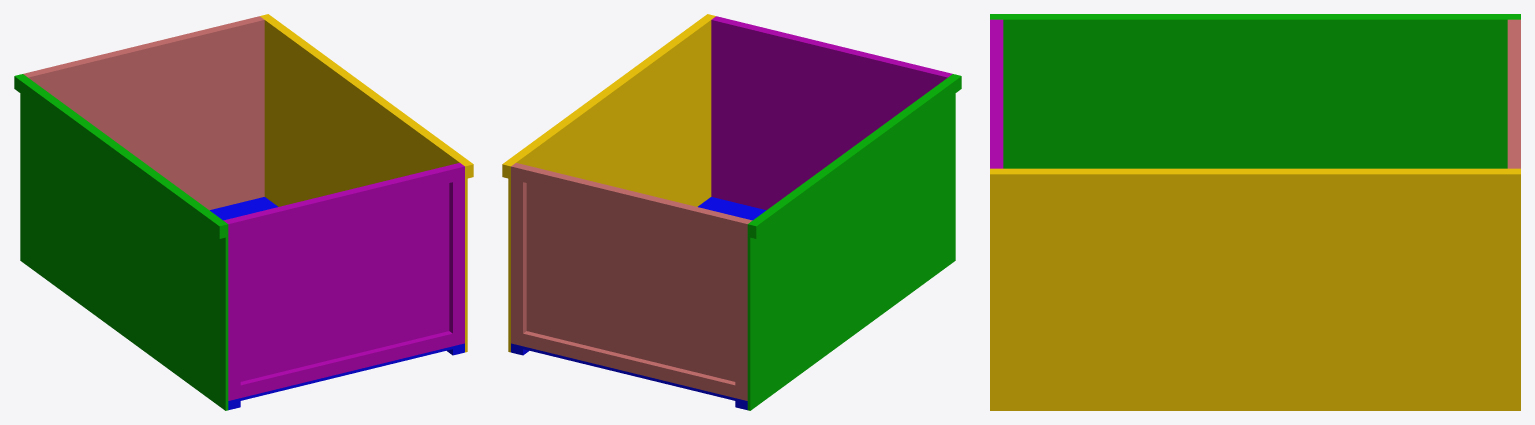
Rendered from result.glb.
The picture shows the model from 3 angles, left to right: view 1: azimuth 30°, elevation 25°; view 2: azimuth 150°, elevation 25°; view 3: azimuth 270°, elevation 25°; orthographic projection. The views are drawn at different scales.
Visible parts, largest first — view 1: 0823ac0e-9516-4f1c-a640-4bfc38205d1e__Box_6, 590701fd-1baf-4d15-9aa1-e2025eb10d07__Box_3, d6ee8875-c264-4a29-b313-4819b38fe17a__undefined, ae7901e0-0cb4-487d-b7e5-4ab9ebf73443__undefined, be1ea940-e853-4d9c-98af-13a54953f05d__Box_7, d8fa4862-6db0-46a9-9c6a-f42fb6df996d__undefined, 66b74056-e788-439d-b27b-66add7425949__Box_5, 4cf86e44-aa90-4543-9a18-928c8ec41699__undefined, b7361d54-c696-4395-989e-c6118429f8cc__Box_4, 76ab908a-22d1-4590-bd7b-d5c9720fec6d__Box, 1bb1b1a0-f963-4454-a69b-d56ef431e7df__undefined, 691f93de-d33b-4151-9d0a-12dadd571b1d__undefined; view 2: 0823ac0e-9516-4f1c-a640-4bfc38205d1e__Box_6, d6ee8875-c264-4a29-b313-4819b38fe17a__undefined, 590701fd-1baf-4d15-9aa1-e2025eb10d07__Box_3, ae7901e0-0cb4-487d-b7e5-4ab9ebf73443__undefined, be1ea940-e853-4d9c-98af-13a54953f05d__Box_7, 691f93de-d33b-4151-9d0a-12dadd571b1d__undefined, bf1d7859-1954-49df-a1c4-1930eae47d73__undefined, 86bc4342-83a2-4bbd-9cc8-ff87cd0b1533__undefined, 00be6576-be11-47f9-8f3c-081cd434a60c__undefined, 76ab908a-22d1-4590-bd7b-d5c9720fec6d__Box, 1bb1b1a0-f963-4454-a69b-d56ef431e7df__undefined, d8fa4862-6db0-46a9-9c6a-f42fb6df996d__undefined; view 3: ae7901e0-0cb4-487d-b7e5-4ab9ebf73443__undefined, 0823ac0e-9516-4f1c-a640-4bfc38205d1e__Box_6, 1bb1b1a0-f963-4454-a69b-d56ef431e7df__undefined, be1ea940-e853-4d9c-98af-13a54953f05d__Box_7, d8fa4862-6db0-46a9-9c6a-f42fb6df996d__undefined, 691f93de-d33b-4151-9d0a-12dadd571b1d__undefined, 590701fd-1baf-4d15-9aa1-e2025eb10d07__Box_3, d6ee8875-c264-4a29-b313-4819b38fe17a__undefined.
Part boxes in pixels (left/top/right/bottom): 0823ac0e-9516-4f1c-a640-4bfc38205d1e__Box_6: left=20, top=74, right=228, bottom=410; 590701fd-1baf-4d15-9aa1-e2025eb10d07__Box_3: left=223, top=163, right=460, bottom=381; d6ee8875-c264-4a29-b313-4819b38fe17a__undefined: left=27, top=19, right=264, bottom=210; ae7901e0-0cb4-487d-b7e5-4ab9ebf73443__undefined: left=260, top=15, right=467, bottom=352; be1ea940-e853-4d9c-98af-13a54953f05d__Box_7: left=14, top=74, right=225, bottom=238; d8fa4862-6db0-46a9-9c6a-f42fb6df996d__undefined: left=237, top=167, right=452, bottom=233; 66b74056-e788-439d-b27b-66add7425949__Box_5: left=240, top=331, right=452, bottom=397; 4cf86e44-aa90-4543-9a18-928c8ec41699__undefined: left=449, top=164, right=464, bottom=346; b7361d54-c696-4395-989e-c6118429f8cc__Box_4: left=225, top=218, right=240, bottom=400; 76ab908a-22d1-4590-bd7b-d5c9720fec6d__Box: left=210, top=197, right=464, bottom=403; 1bb1b1a0-f963-4454-a69b-d56ef431e7df__undefined: left=262, top=14, right=473, bottom=178; 691f93de-d33b-4151-9d0a-12dadd571b1d__undefined: left=35, top=19, right=250, bottom=73; 0823ac0e-9516-4f1c-a640-4bfc38205d1e__Box_6: left=747, top=74, right=955, bottom=410; d6ee8875-c264-4a29-b313-4819b38fe17a__undefined: left=515, top=163, right=752, bottom=381; 590701fd-1baf-4d15-9aa1-e2025eb10d07__Box_3: left=711, top=19, right=948, bottom=210; ae7901e0-0cb4-487d-b7e5-4ab9ebf73443__undefined: left=508, top=15, right=715, bottom=352; be1ea940-e853-4d9c-98af-13a54953f05d__Box_7: left=750, top=74, right=961, bottom=238; 691f93de-d33b-4151-9d0a-12dadd571b1d__undefined: left=523, top=167, right=738, bottom=233; bf1d7859-1954-49df-a1c4-1930eae47d73__undefined: left=523, top=331, right=735, bottom=397; 86bc4342-83a2-4bbd-9cc8-ff87cd0b1533__undefined: left=511, top=164, right=526, bottom=346; 00be6576-be11-47f9-8f3c-081cd434a60c__undefined: left=735, top=218, right=750, bottom=400; 76ab908a-22d1-4590-bd7b-d5c9720fec6d__Box: left=511, top=197, right=765, bottom=403; 1bb1b1a0-f963-4454-a69b-d56ef431e7df__undefined: left=502, top=14, right=713, bottom=178; d8fa4862-6db0-46a9-9c6a-f42fb6df996d__undefined: left=725, top=19, right=940, bottom=73; ae7901e0-0cb4-487d-b7e5-4ab9ebf73443__undefined: left=990, top=168, right=1520, bottom=410; 0823ac0e-9516-4f1c-a640-4bfc38205d1e__Box_6: left=990, top=18, right=1520, bottom=168; 1bb1b1a0-f963-4454-a69b-d56ef431e7df__undefined: left=990, top=170, right=1520, bottom=190; be1ea940-e853-4d9c-98af-13a54953f05d__Box_7: left=990, top=14, right=1520, bottom=17; d8fa4862-6db0-46a9-9c6a-f42fb6df996d__undefined: left=990, top=27, right=999, bottom=160; 691f93de-d33b-4151-9d0a-12dadd571b1d__undefined: left=1511, top=27, right=1520, bottom=160; 590701fd-1baf-4d15-9aa1-e2025eb10d07__Box_3: left=999, top=19, right=1003, bottom=168; d6ee8875-c264-4a29-b313-4819b38fe17a__undefined: left=1507, top=19, right=1511, bottom=168.
Size of the model in its own units: 752 by 526 by 1052.
